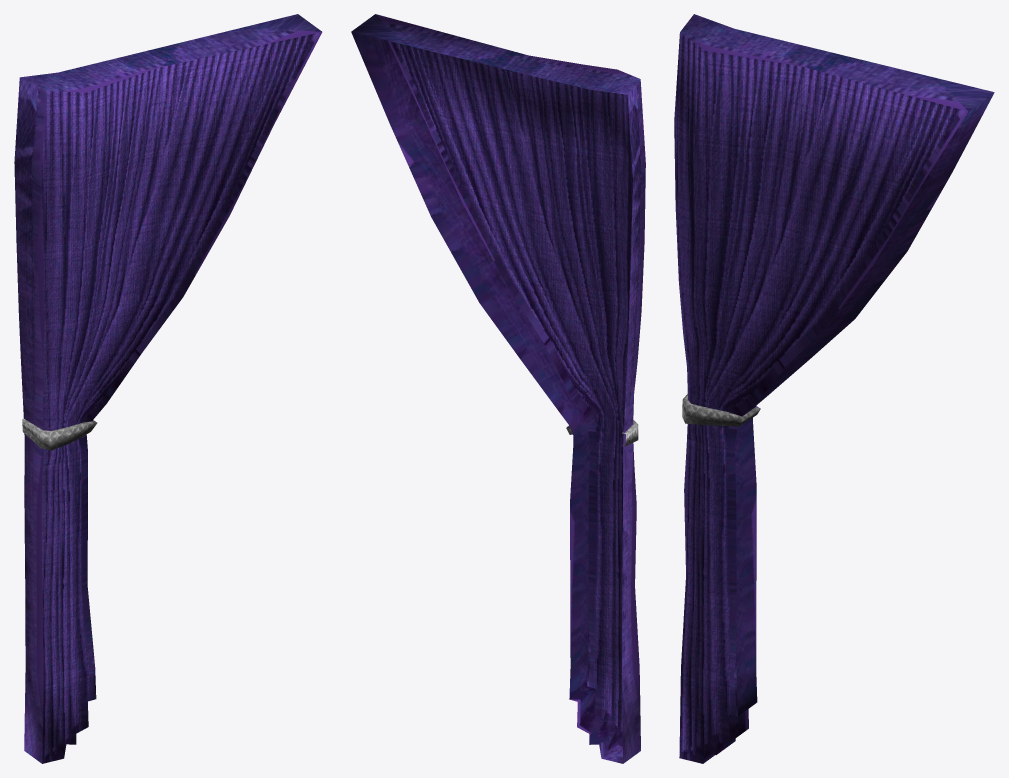
File: GS_MONASTERY_CURTAIN_02L_PURPLE_KOZA.glb
3 views of the same model, side by side, from view 1: azimuth 30°, elevation 25°; view 2: azimuth 150°, elevation 25°; view 3: azimuth 330°, elevation 25° (orthographic). The views are drawn at different scales.
Parts seen in each view (by area): view 1: Mesh; view 2: Mesh; view 3: Mesh.
Boxes of the visible parts, bbox=[...] form: Mesh: bbox=[14, 14, 322, 763]; Mesh: bbox=[351, 14, 645, 763]; Mesh: bbox=[674, 14, 994, 763].
Size of the model in its own units: 1.83 by 4.16 by 0.3113.
Materials: 1 (1 with a texture image).
